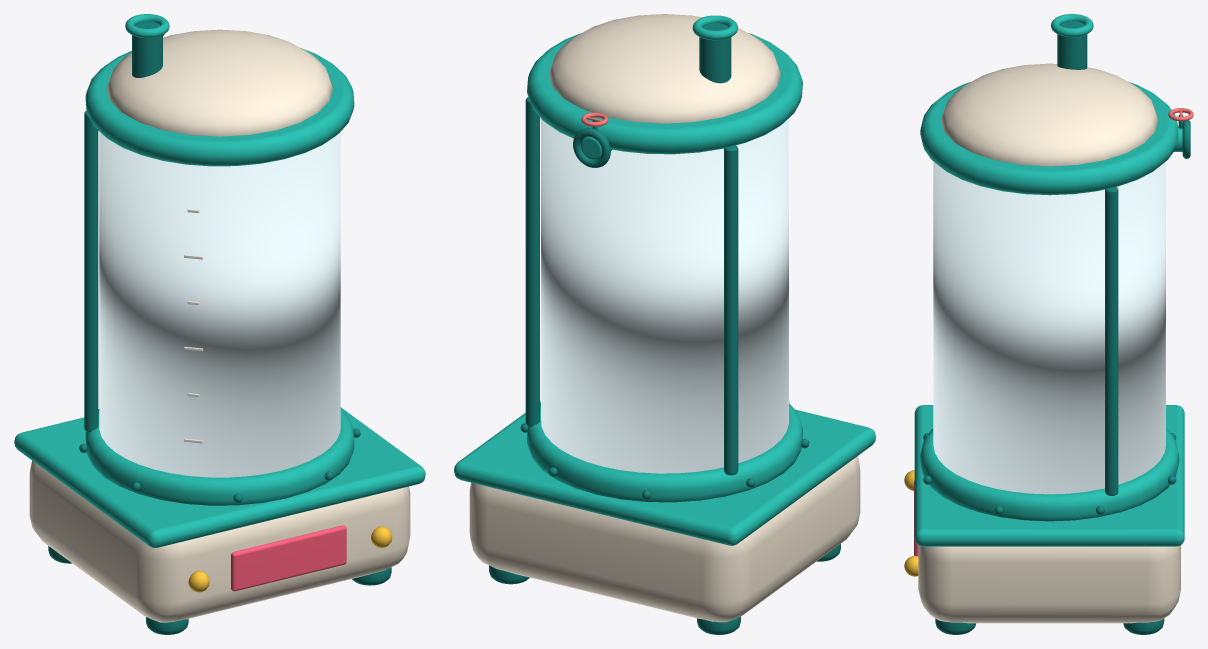
The model's file is Vat.fbx.
The picture shows the model from 3 angles, left to right: view 1: azimuth 30°, elevation 25°; view 2: azimuth 150°, elevation 25°; view 3: azimuth 270°, elevation 25°; orthographic projection. The views are drawn at different scales.
Parts seen in each view (by area): view 1: Vat mesh; view 2: Vat mesh; view 3: Vat mesh.
Part boxes in pixels (<box>): Vat mesh: <box>14,14,425,634</box>; Vat mesh: <box>454,14,875,634</box>; Vat mesh: <box>904,14,1193,634</box>.
Bounding box in the file's own units: 0.82 × 1.56 × 0.772.
